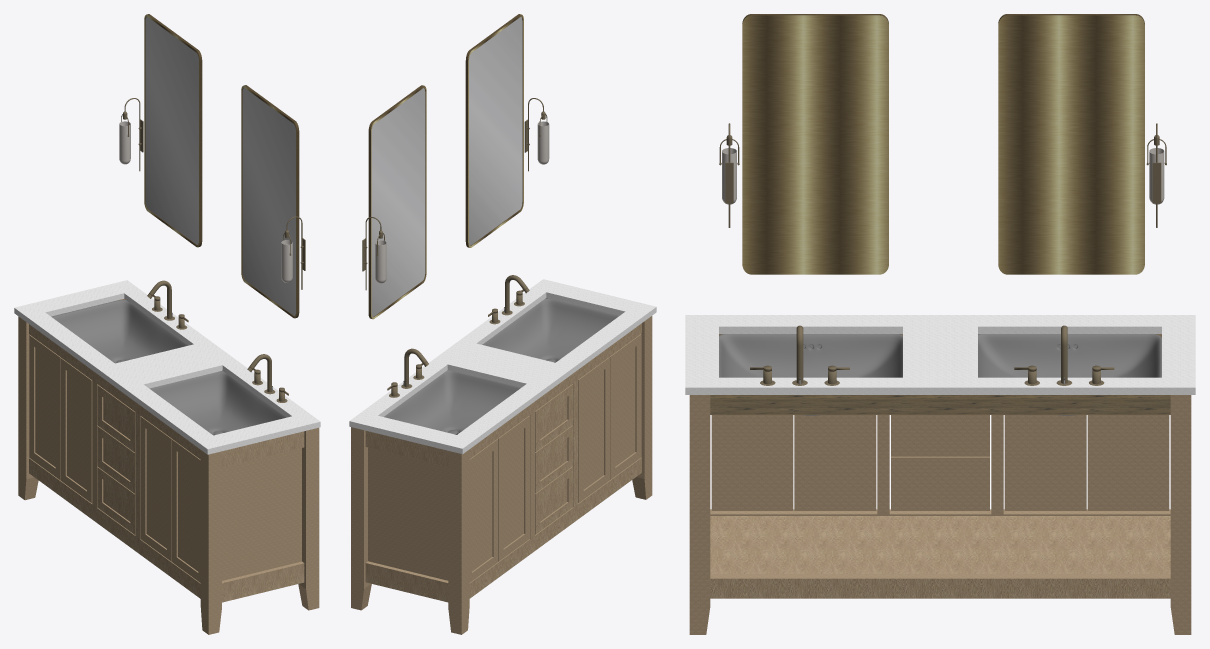
File: Vanity.glb
The picture shows the model from 3 angles, left to right: view 1: azimuth 30°, elevation 25°; view 2: azimuth 150°, elevation 25°; view 3: azimuth 270°, elevation 25°; orthographic projection. The views are drawn at different scales.
Parts seen in each view (by area): view 1: MIRROR (×2), Door Face (×4), Vanity Top, Corner Post (×3), skp8EA2 (×2), Side Panel Backer, Drawer Front (×3), Front Rail (×2), Side Rail (×2), Component8#1 (×2), object #2 (×2), object 20 (+1 smaller); view 2: MIRROR (×2), Door Face (×4), Vanity Top, skp8EA2 (×2), Corner Post (×3), Side Panel Backer, Drawer Front (×3), Front Rail (×2), Side Rail (×2), Component8#1 (×2), object #2 (×2), object 20 (+1 smaller); view 3: MIRROR (×2), Door Face (×4), Bottom Panel, Vanity Top, Front Rail (×3), skp8EA2 (×2), Corner Post (×2), Drawer Front (×2), Component8#1 (×2), object #2 (×2), object 20, object 22.
Boxes of the visible parts, x1=… form: MIRROR (×2): x1=144, y1=14, x2=299, y2=318; Door Face (×4): x1=29, y1=335, x2=200, y2=582; Vanity Top: x1=14, y1=280, x2=320, y2=454; Corner Post (×3): x1=18, y1=316, x2=319, y2=634; skp8EA2 (×2): x1=51, y1=300, x2=285, y2=435; Side Panel Backer: x1=222, y1=448, x2=301, y2=580; Drawer Front (×3): x1=97, y1=385, x2=135, y2=534; Front Rail (×2): x1=29, y1=324, x2=200, y2=598; Side Rail (×2): x1=222, y1=431, x2=304, y2=602; Component8#1 (×2): x1=119, y1=98, x2=305, y2=289; object #2 (×2): x1=147, y1=280, x2=288, y2=402; object 20: x1=135, y1=412, x2=140, y2=539; MIRROR (×2): x1=368, y1=14, x2=523, y2=319; Door Face (×4): x1=469, y1=334, x2=641, y2=582; Vanity Top: x1=349, y1=279, x2=656, y2=454; skp8EA2 (×2): x1=384, y1=298, x2=619, y2=434; Corner Post (×3): x1=351, y1=316, x2=652, y2=634; Side Panel Backer: x1=368, y1=447, x2=448, y2=580; Drawer Front (×3): x1=535, y1=384, x2=573, y2=534; Front Rail (×2): x1=469, y1=323, x2=641, y2=598; Side Rail (×2): x1=365, y1=431, x2=448, y2=602; Component8#1 (×2): x1=362, y1=98, x2=549, y2=290; object #2 (×2): x1=387, y1=275, x2=529, y2=397; object 20: x1=573, y1=380, x2=578, y2=507; MIRROR (×2): x1=742, y1=14, x2=1144, y2=274; Door Face (×4): x1=711, y1=415, x2=1169, y2=510; Bottom Panel: x1=710, y1=516, x2=1170, y2=573; Vanity Top: x1=685, y1=315, x2=1195, y2=394; Front Rail (×3): x1=710, y1=395, x2=1170, y2=598; skp8EA2 (×2): x1=719, y1=334, x2=1161, y2=415; Corner Post (×2): x1=689, y1=395, x2=1191, y2=634; Drawer Front (×2): x1=891, y1=415, x2=989, y2=510; Component8#1 (×2): x1=719, y1=123, x2=1166, y2=227; object #2 (×2): x1=750, y1=325, x2=1114, y2=385; object 20: x1=877, y1=415, x2=889, y2=514; object 22: x1=991, y1=415, x2=1003, y2=514.
Size of the model in its own units: 0.6224 by 2.47 by 1.84.
Materials: 10 (6 with a texture image).
